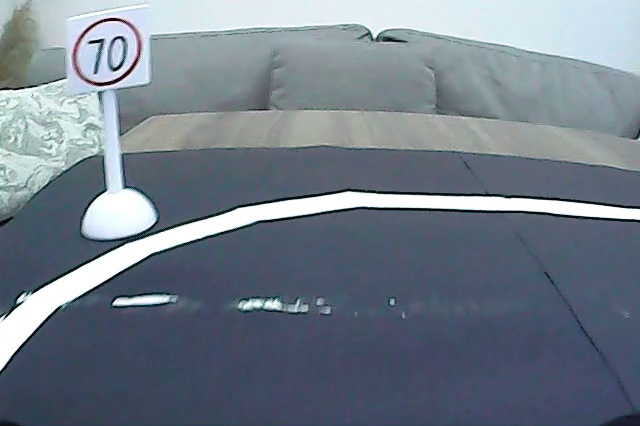speed limit 70: (72, 13, 143, 89)
